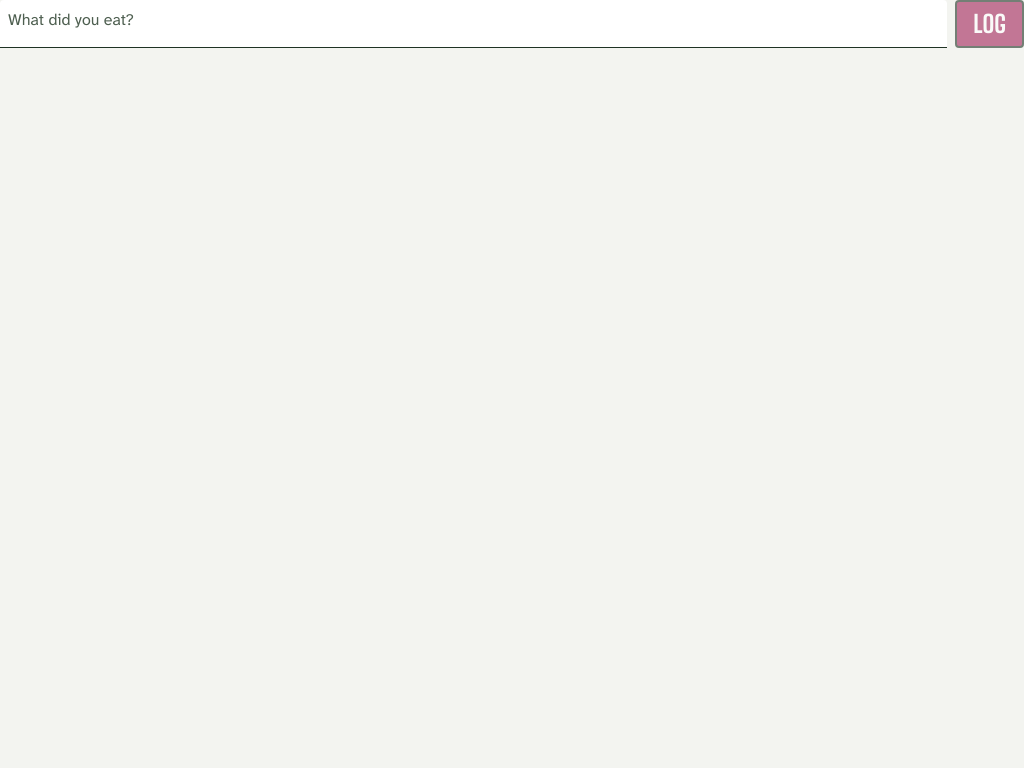
Test: editing grams › edits the same food twice as two items
The image size is (1024, 768).
Later steps or results of the test are not shown.
Type "2 eggs and 150 g blueberries" into the text box labelled "What did you eat?" at (474, 24), box [0,0,947,48]
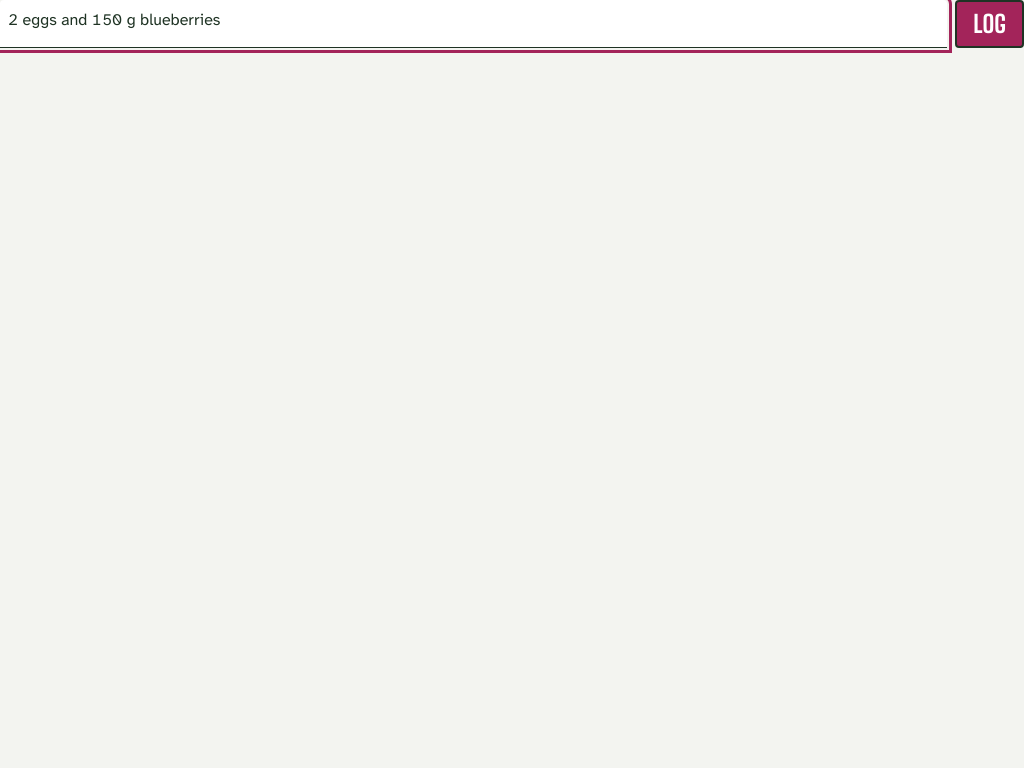
Click the button "Log" at (990, 24), box [955,0,1023,48]
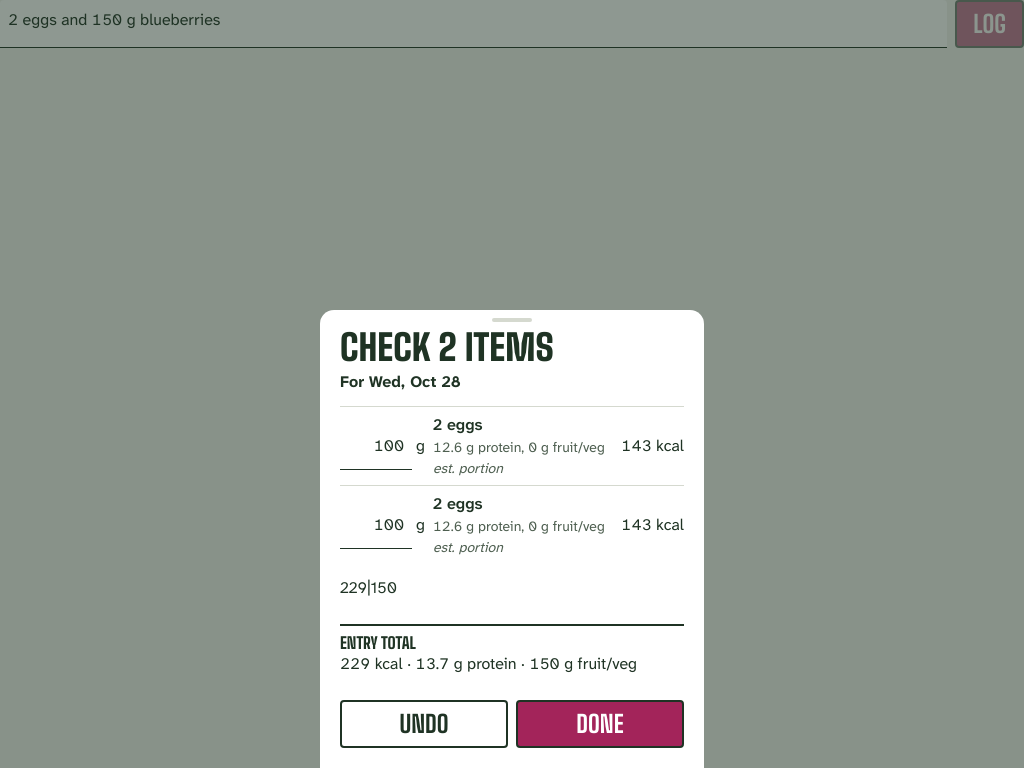
Clear the 1st field named "Grams of 2 eggs" at (376, 446), box [340,422,412,470]
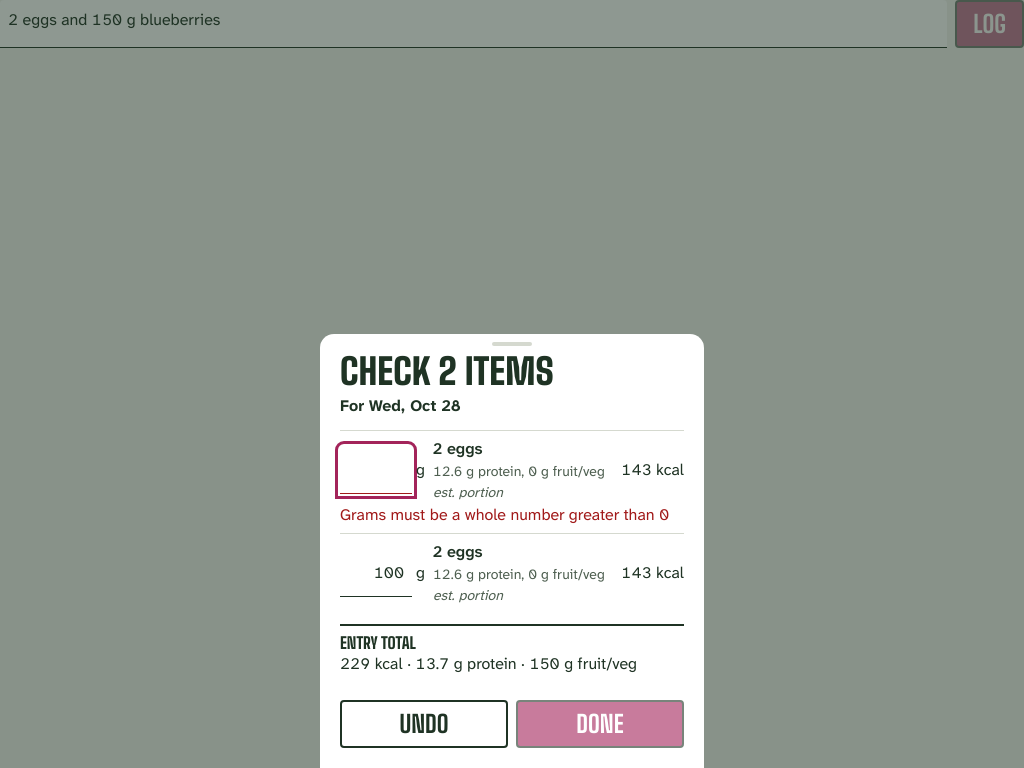
Type "50" into the 1st field named "Grams of 2 eggs" at (376, 470), box [340,446,412,494]
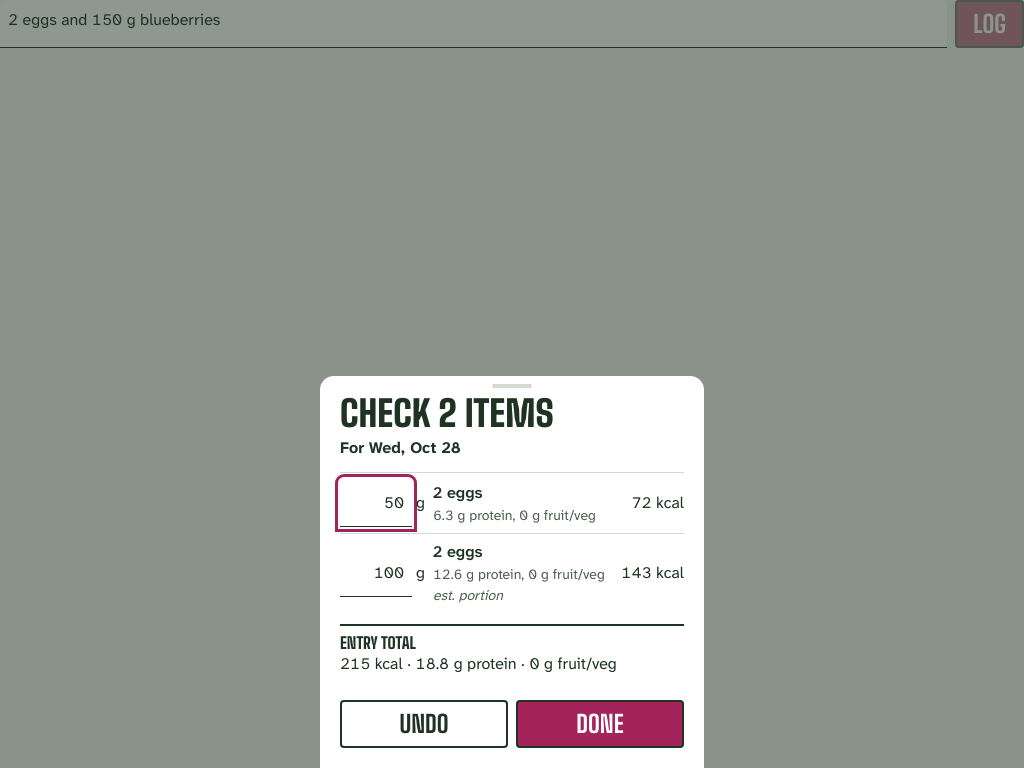
Check: the field named "Grams of 2 eggs" in the row of "12.6 g protein" holds "100", box [340,549,412,597]
